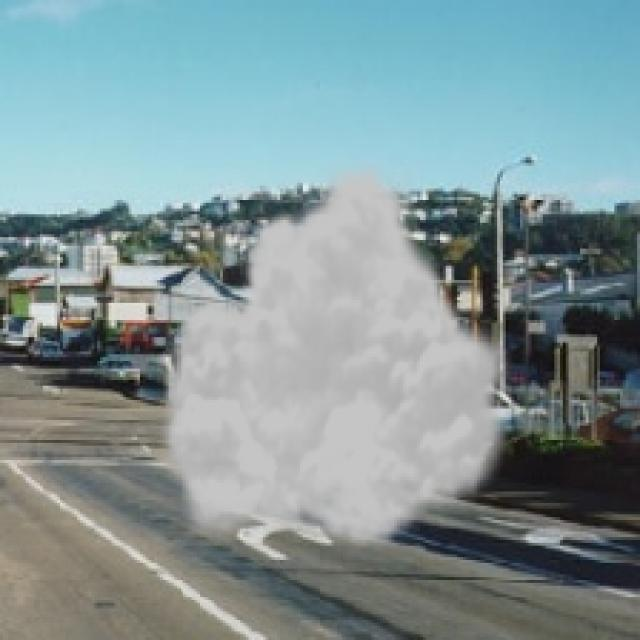Smoke: (155, 154, 520, 552)
